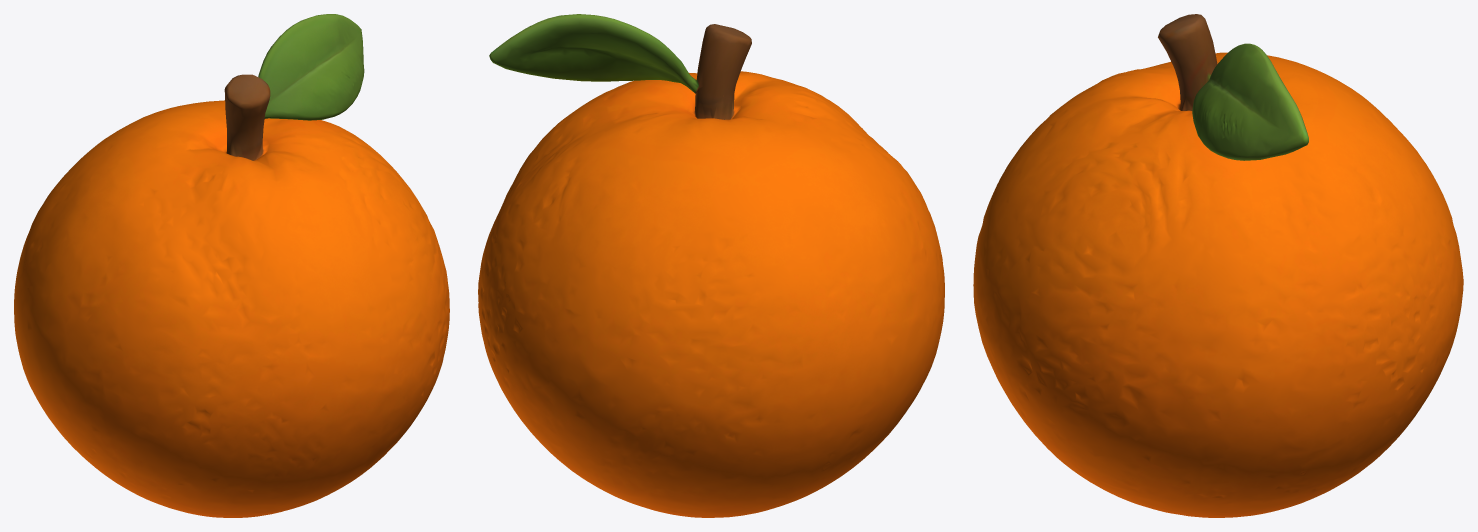
File: orange.glb
3 renders of one model, left to right at view 1: azimuth 30°, elevation 25°; view 2: azimuth 150°, elevation 25°; view 3: azimuth 270°, elevation 25°, orthographic. The views are drawn at different scales.
Parts seen in each view (by area): view 1: tripo_node_60a50522-cb2b-4d6b-92d1-e68d3293bb2d; view 2: tripo_node_60a50522-cb2b-4d6b-92d1-e68d3293bb2d; view 3: tripo_node_60a50522-cb2b-4d6b-92d1-e68d3293bb2d.
Part boxes in pixels (x1,y1,x2,y2): tripo_node_60a50522-cb2b-4d6b-92d1-e68d3293bb2d: (14,14,449,517); tripo_node_60a50522-cb2b-4d6b-92d1-e68d3293bb2d: (478,14,944,517); tripo_node_60a50522-cb2b-4d6b-92d1-e68d3293bb2d: (973,14,1463,517).
Size of the model in its own units: 0.897 by 0.9799 by 0.9001.
Materials: 1 (1 with a texture image).
